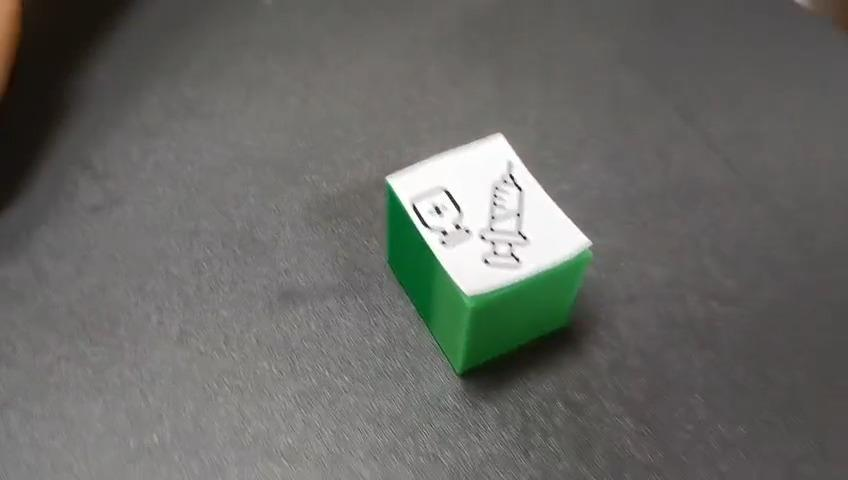antiseptic cream: (383, 130, 594, 376)
